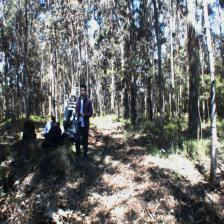trunktrack_idkeyframe: (188, 50, 200, 140), (210, 74, 218, 180), (159, 73, 164, 137), (24, 71, 28, 119)
